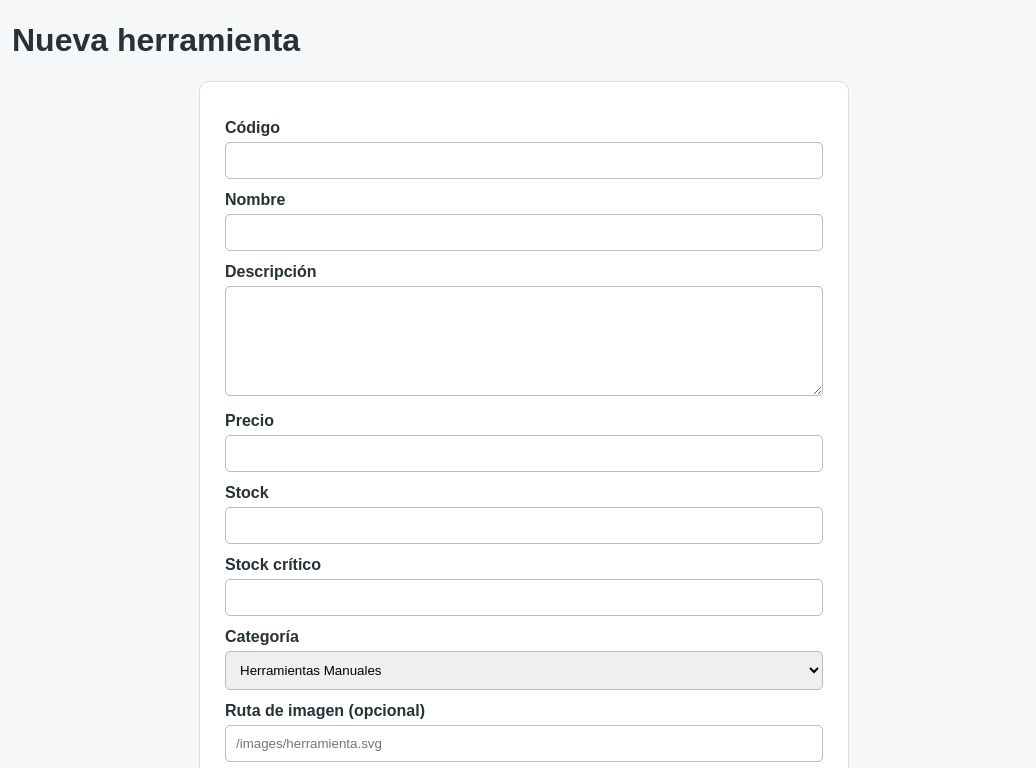
it: FormularioProductoAdmin › crea una herramienta en el backend y usa el id devuelto
Type "HM-009" into the field with id "codigo".
click(524, 161); type("HM-009")  # box [225,142,823,179]
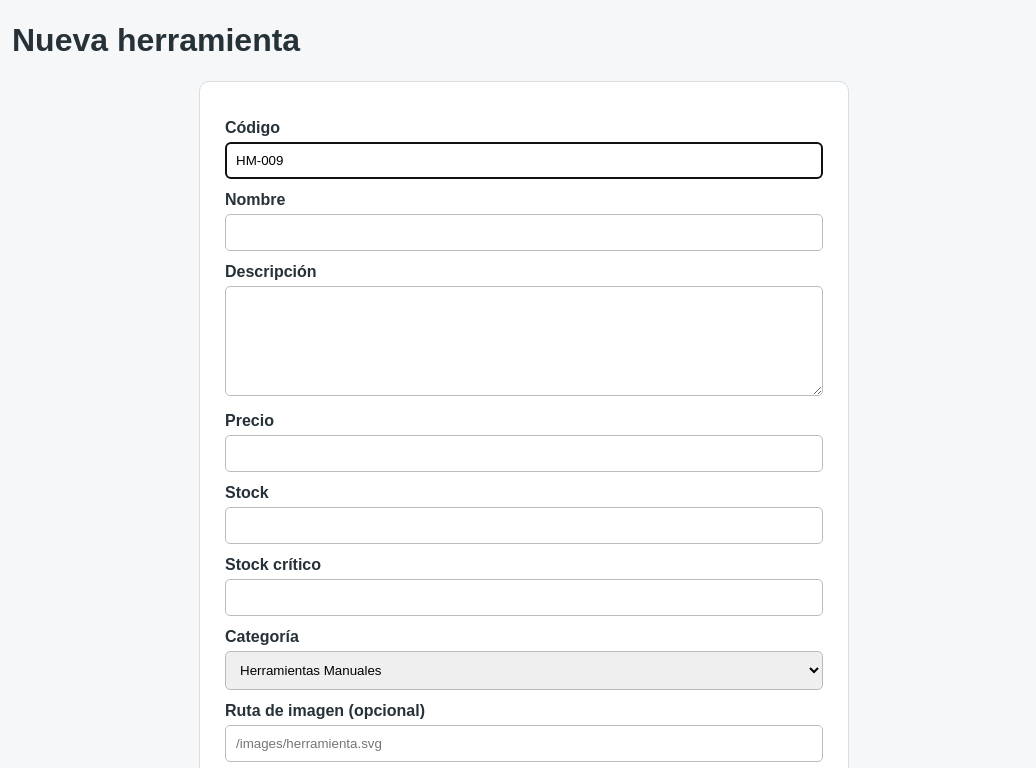
Type "Martillo Especial" into the field with id "nombre".
click(524, 233); type("Martillo Especial")  # box [225,214,823,251]
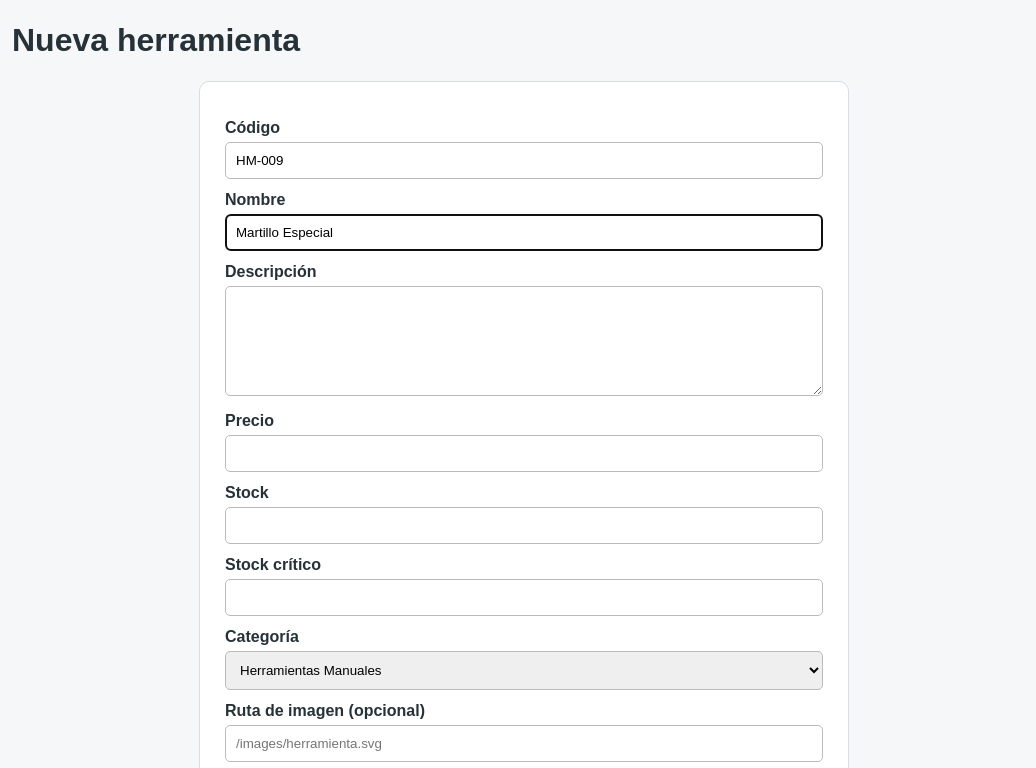
Type "Martillo de prueba para el inventario." into the text box with id "descripcion".
click(524, 341); type("Martillo de prueba para el inventario.")  # box [225,286,823,396]
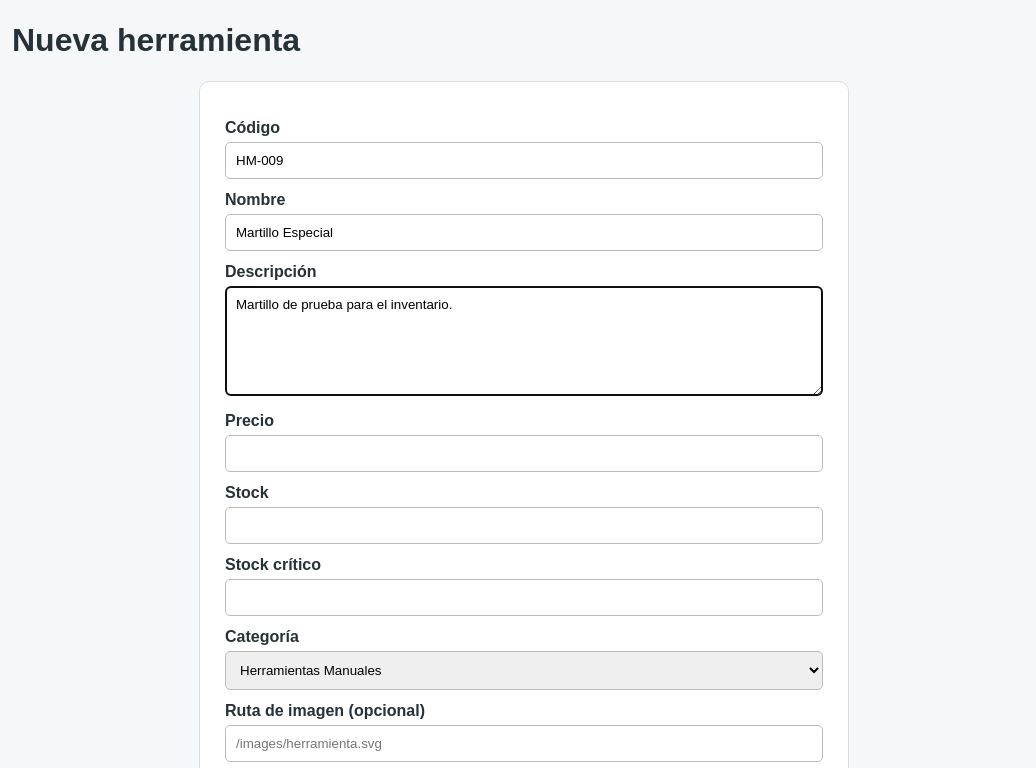
Type "15000" into the 1st number field.
click(524, 454); type("15000")  # box [225,435,823,472]
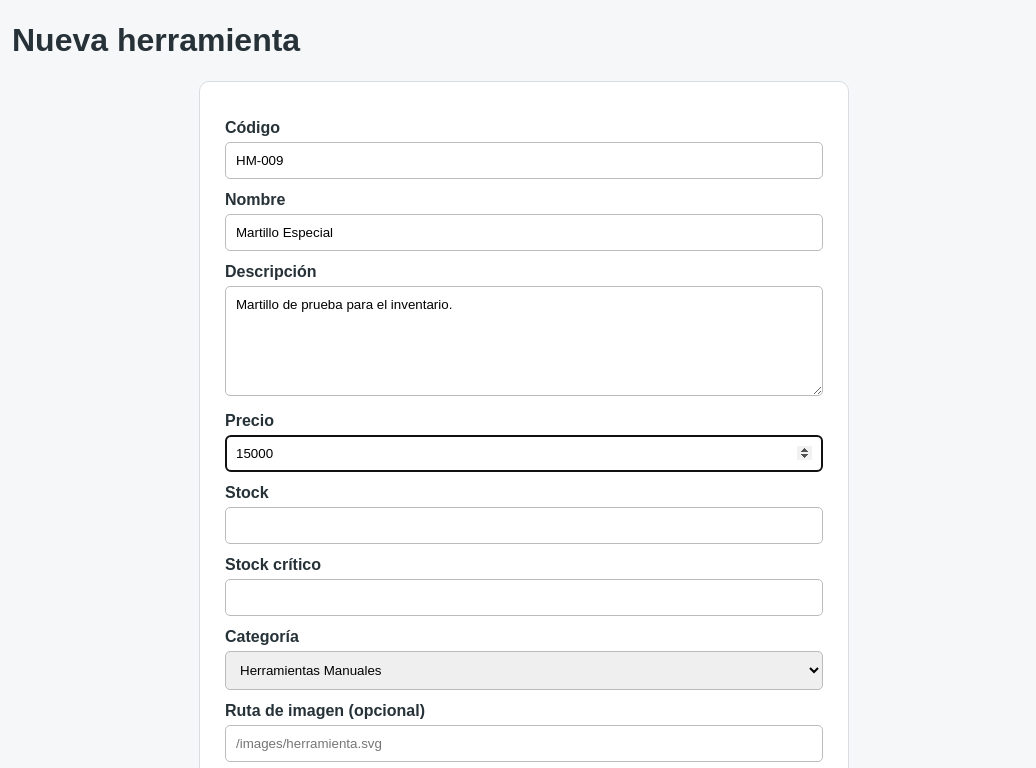
Type "4" into the number field with id "stock".
click(524, 526); type("4")  # box [225,507,823,544]
(page scrolled)
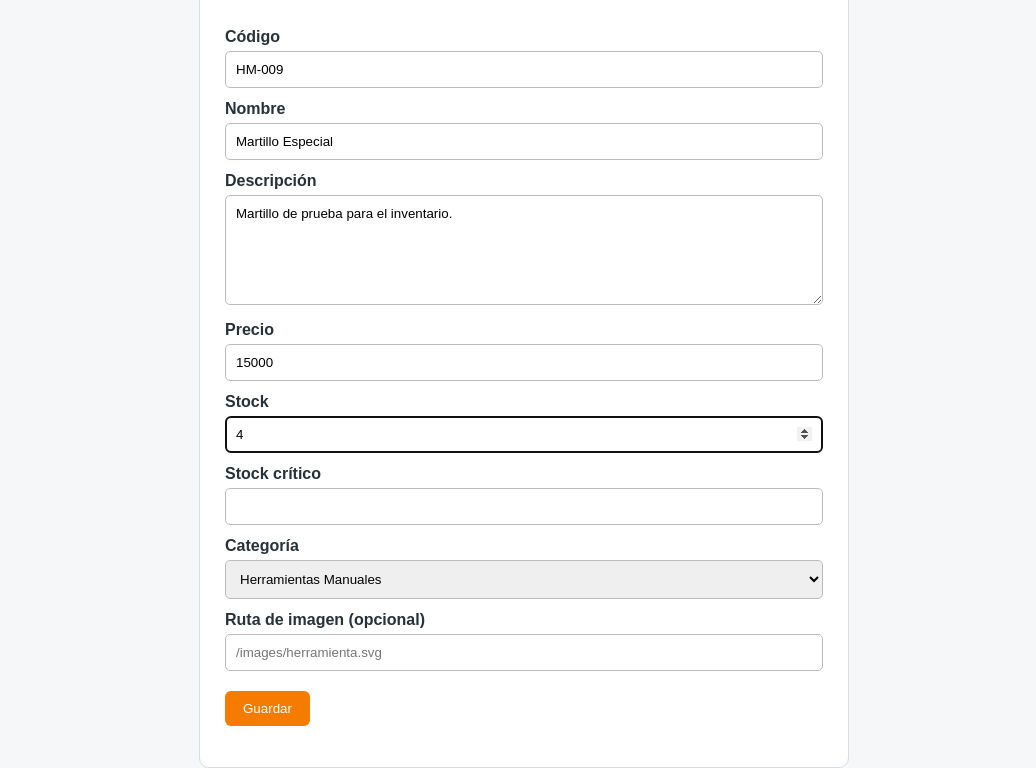
Click the button "Guardar".
click(267, 709)  # box [225,691,310,726]
(page scrolled)
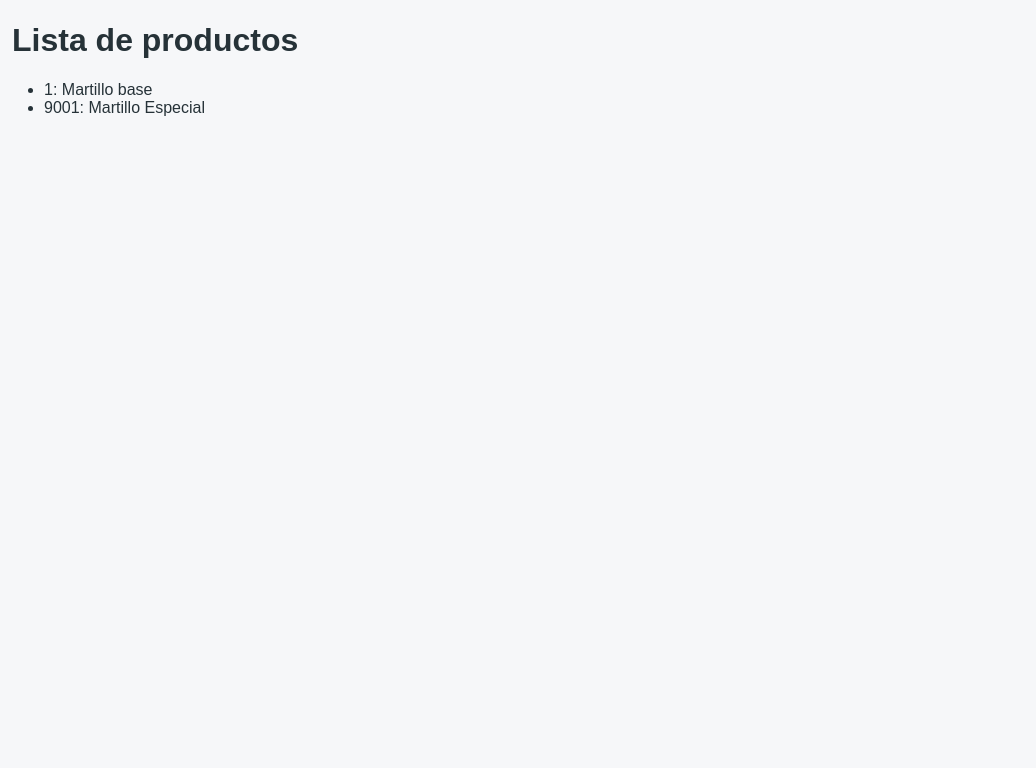
Check: the heading "Lista de productos" is shown, box [12,22,298,58]
Check: the list item "9001: Martillo Especial" is shown, box [44,99,205,116]
